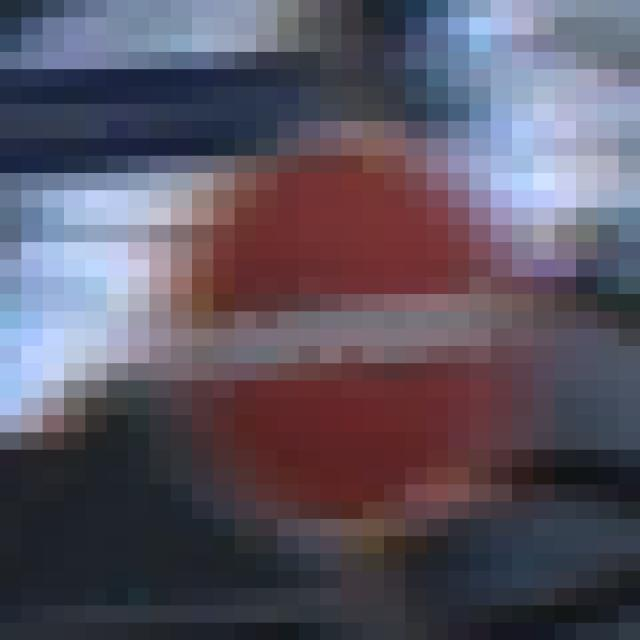No Entry: (129, 88, 534, 555)
